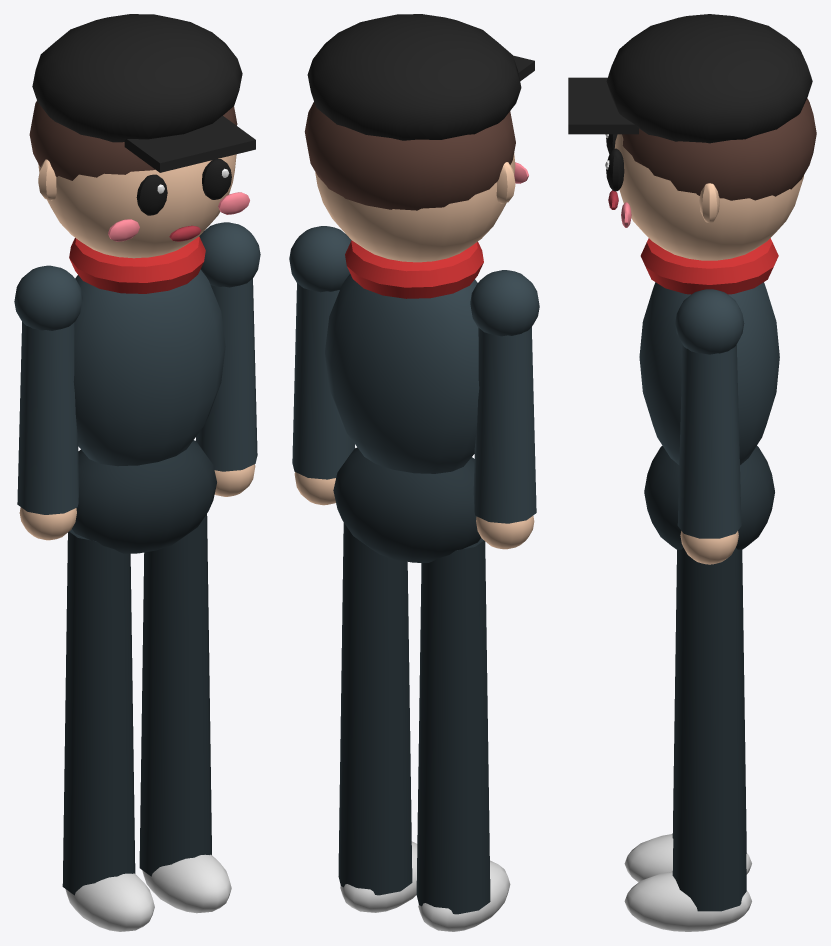
Rendered from underworld_pickpocket.glb.
The picture shows the model from 3 angles, left to right: view 1: azimuth 30°, elevation 25°; view 2: azimuth 150°, elevation 25°; view 3: azimuth 270°, elevation 25°; orthographic projection.
Parts seen in each view (by area): view 1: Body.003, Leg_R.003, Leg_L.003, Arm_R.003, Arm_L.003; view 2: Body.003, Leg_R.003, Leg_L.003, Arm_R.003, Arm_L.003; view 3: Body.003, Leg_L.003, Arm_L.003, Leg_R.003.
Boxes of the visible parts, x1,y1,x2,y2 form: Body.003: (29,14,255,553); Leg_R.003: (62,529,154,931); Leg_L.003: (139,514,231,913); Arm_R.003: (14,265,82,540); Arm_L.003: (195,222,260,496); Body.003: (304,14,534,562); Leg_R.003: (416,538,510,931); Leg_L.003: (338,522,417,912); Arm_R.003: (470,270,539,549); Arm_L.003: (289,226,354,505); Body.003: (568,14,816,549); Leg_L.003: (624,547,751,931); Arm_L.003: (675,289,744,564); Leg_R.003: (624,550,751,882).
Size of the model in its own units: 0.4853 by 1.71 by 0.4385.
